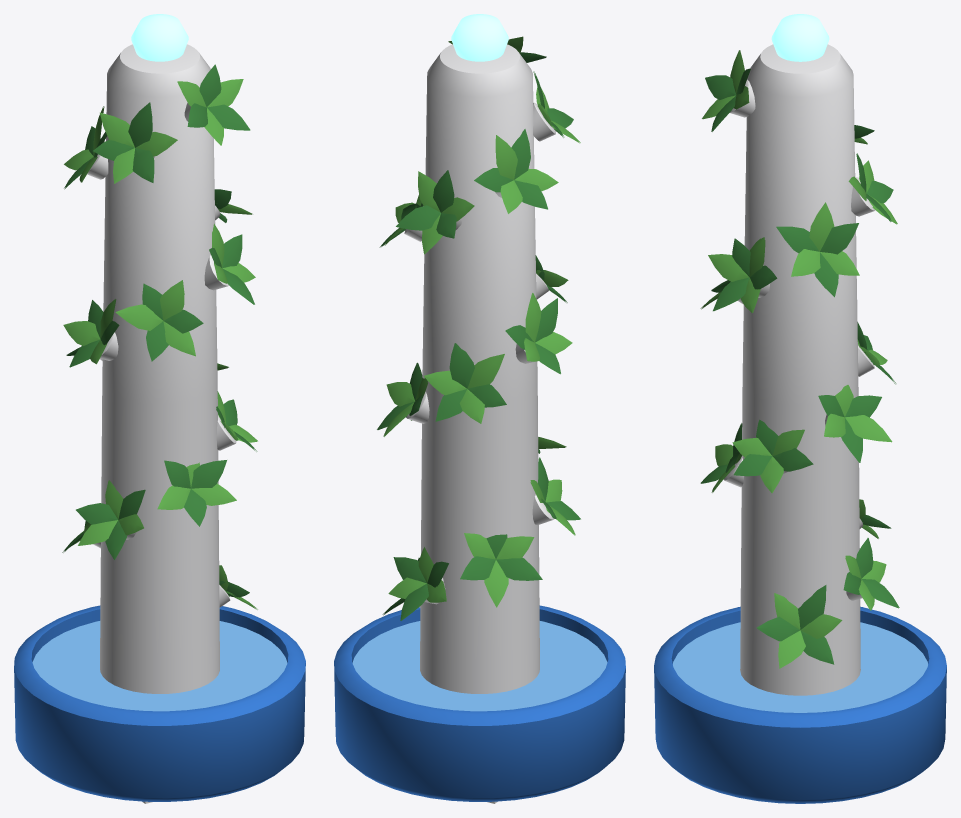
Rendered from HydroTower.fbx.
3 renders of one model, left to right at view 1: azimuth 30°, elevation 25°; view 2: azimuth 150°, elevation 25°; view 3: azimuth 270°, elevation 25°, orthographic.
Parts seen in each view (by area): view 1: Tower__White, Body__Blue, Tower__LeafDark, Tower__Leaf, Body__Water, Body__NeonCyan; view 2: Tower__White, Body__Blue, Tower__LeafDark, Tower__Leaf, Body__Water, Body__NeonCyan; view 3: Tower__White, Body__Blue, Tower__LeafDark, Tower__Leaf, Body__Water, Body__NeonCyan.
Part boxes in pixels (x1=…): Tower__White: x1=87, y1=44, x2=236, y2=693; Body__Blue: x1=14, y1=605, x2=305, y2=801; Tower__LeafDark: x1=62, y1=64, x2=257, y2=597; Tower__Leaf: x1=63, y1=79, x2=257, y2=609; Body__Water: x1=32, y1=621, x2=287, y2=711; Body__NeonCyan: x1=131, y1=14, x2=188, y2=61; Tower__White: x1=404, y1=44, x2=555, y2=693; Body__Blue: x1=334, y1=605, x2=625, y2=801; Tower__LeafDark: x1=377, y1=52, x2=580, y2=620; Tower__Leaf: x1=383, y1=36, x2=580, y2=607; Body__Water: x1=352, y1=621, x2=607, y2=711; Body__NeonCyan: x1=451, y1=14, x2=508, y2=61; Tower__White: x1=724, y1=44, x2=875, y2=695; Body__Blue: x1=654, y1=606, x2=946, y2=803; Tower__LeafDark: x1=700, y1=68, x2=899, y2=664; Tower__Leaf: x1=700, y1=50, x2=897, y2=668; Body__Water: x1=673, y1=622, x2=927, y2=712; Body__NeonCyan: x1=771, y1=14, x2=829, y2=61.
Size of the model in its own units: 3.64 by 10.5 by 3.64.
